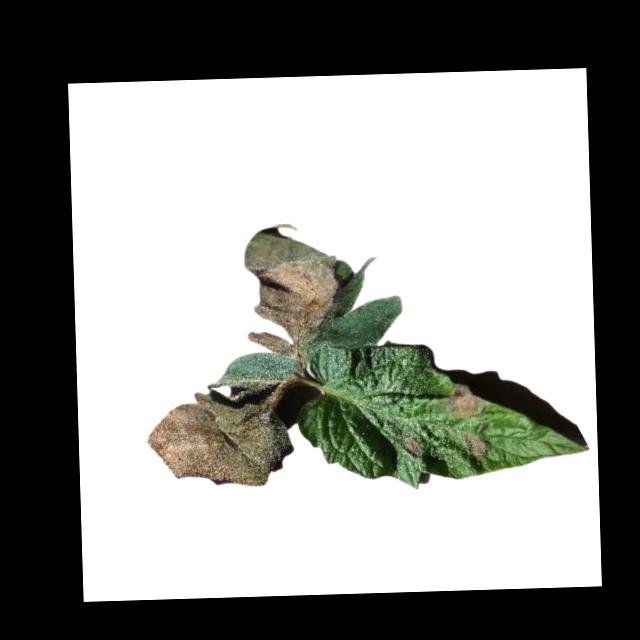Late_blight: (147, 386, 295, 490), (243, 222, 345, 359), (447, 384, 485, 420), (464, 434, 491, 459), (405, 435, 424, 459)
